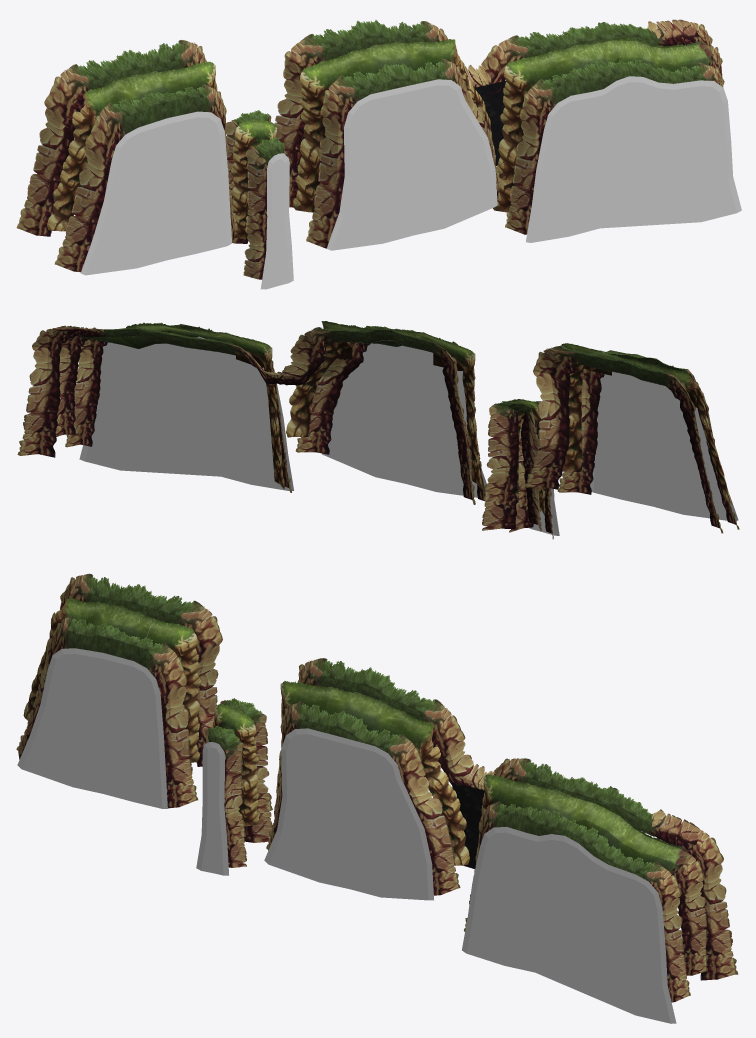
The model's file is Level 8 Pt 2.FBX.
The picture shows the model from 3 angles, top to bottom: view 1: azimuth 30°, elevation 25°; view 2: azimuth 150°, elevation 25°; view 3: azimuth 330°, elevation 25°; orthographic projection.
Parts seen in each view (by area): view 1: Black Pt 2 Level 8, Grass Pt 2 FG, Grass Pt 2 BG, Cliff Pt 2, Grass Pt 2, Rock BG Pt2; view 2: Black Pt 2 Level 8, Grass Pt 2 BG, Grass Pt 2 FG, Cliff Pt 2, Grass Pt 2; view 3: Black Pt 2 Level 8, Grass Pt 2 FG, Grass Pt 2 BG, Grass Pt 2, Cliff Pt 2, Rock BG Pt2.
Boxes of the visible parts, left/top/right/bottom form: Black Pt 2 Level 8: left=80, top=76, right=741, bottom=289; Grass Pt 2 FG: left=54, top=59, right=724, bottom=279; Grass Pt 2 BG: left=16, top=19, right=712, bottom=243; Cliff Pt 2: left=47, top=39, right=559, bottom=238; Grass Pt 2: left=101, top=37, right=722, bottom=106; Rock BG Pt2: left=474, top=80, right=506, bottom=165; Black Pt 2 Level 8: left=79, top=336, right=738, bottom=535; Grass Pt 2 BG: left=17, top=325, right=723, bottom=533; Grass Pt 2 FG: left=65, top=324, right=739, bottom=539; Cliff Pt 2: left=227, top=321, right=731, bottom=515; Grass Pt 2: left=55, top=322, right=674, bottom=436; Black Pt 2 Level 8: left=17, top=648, right=676, bottom=1023; Grass Pt 2 FG: left=16, top=616, right=690, bottom=1002; Grass Pt 2 BG: left=59, top=573, right=738, bottom=980; Grass Pt 2: left=80, top=601, right=707, bottom=975; Cliff Pt 2: left=23, top=598, right=529, bottom=865; Rock BG Pt2: left=452, top=782, right=484, bottom=868.
Size of what is drawn, in the model's own units: 9277 by 900 by 3464.
Materials: 4 (4 with a texture image).
